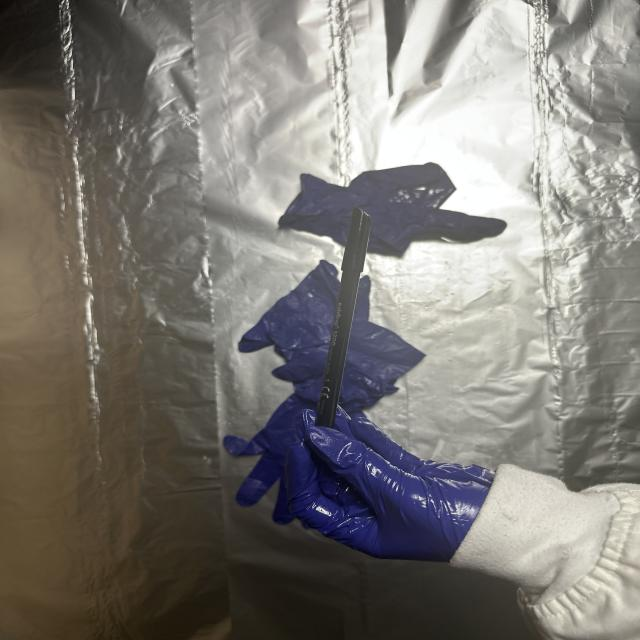gloves_contaminated: (285, 408, 494, 562)
